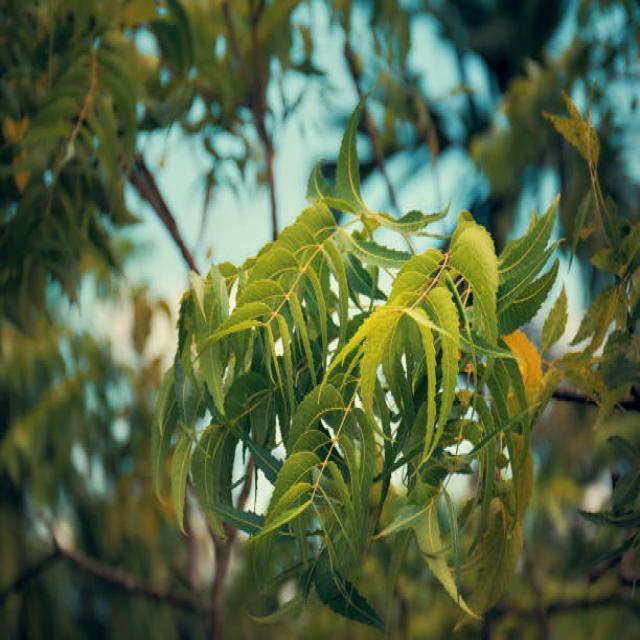Neem-Tree: (166, 246, 583, 542), (164, 246, 534, 524)
